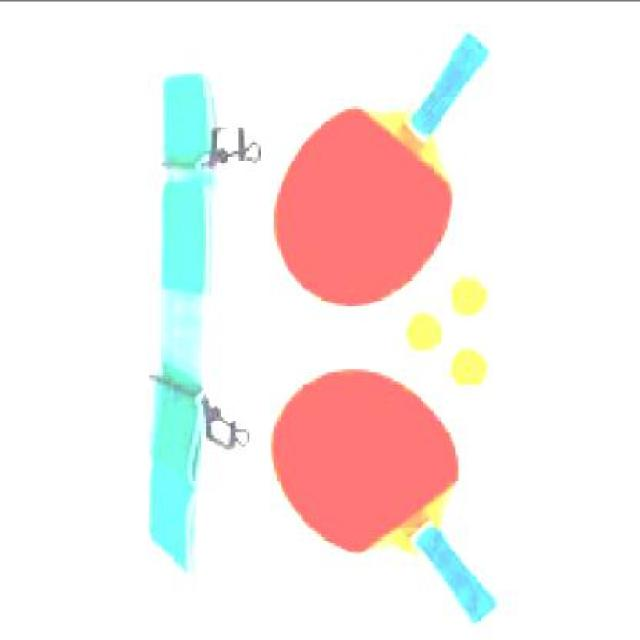table_tennis_racket: (270, 360, 464, 560), (267, 104, 445, 310)
